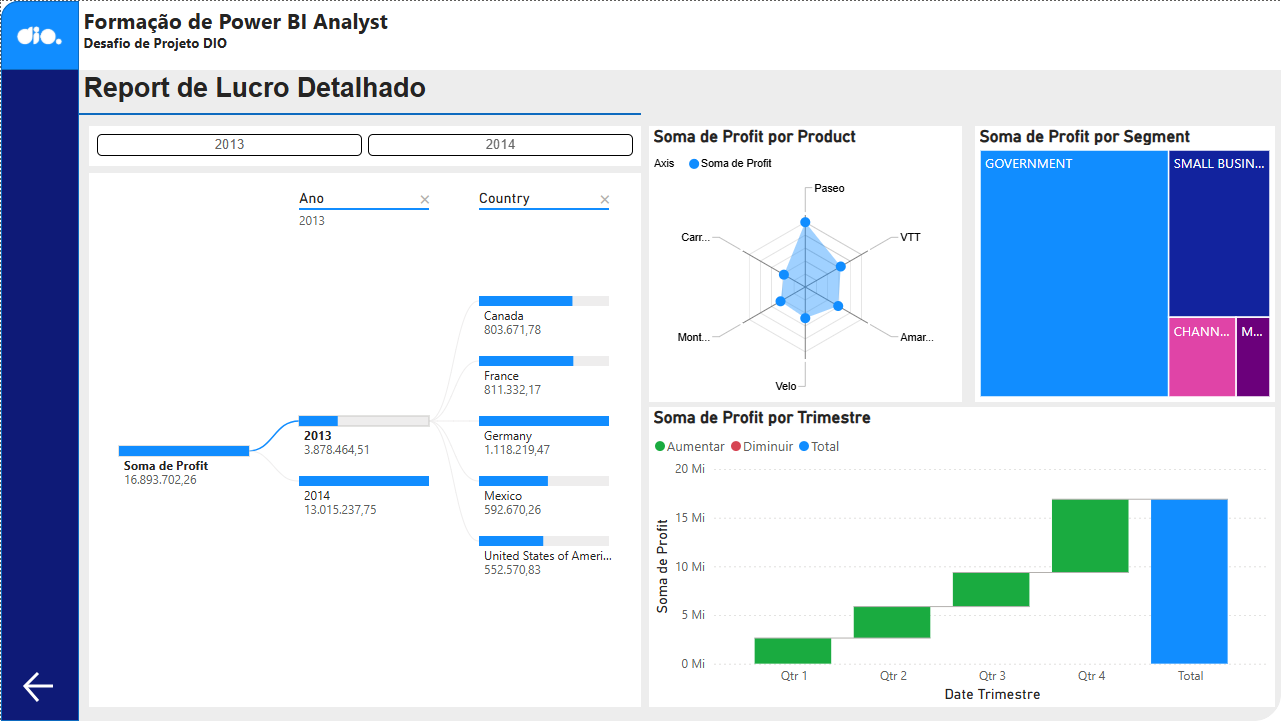

Layout of this report page (visuals, bound fields, positions):
{"tool":"powerbi","page":{"name":"Lucro Detalhado","canvas":[1280,720],"ordinal":1},"visuals":[{"type":"shape","box":[0,0,1280,720],"z":0},{"type":"shape","box":[78.2,101.1,561.8,24.4],"z":0,"group":"g1"},{"type":"shape","box":[0,0,78,720],"z":1},{"type":"shape","box":[0,0,78,69.2],"z":2},{"type":"textbox","box":[78.2,0,1201.8,69.1],"z":3},{"type":"image","title":"Logo_DIO","box":[0,0,78,69.2],"z":4},{"type":"group","id":"g1","title":"Title Report","box":[78.2,67.3,561.8,58.2],"z":5},{"type":"actionButton","box":[18.2,666.4,40.9,40],"z":6},{"type":"ChicletSlicer1448559807354","fields":{"Category":["financials.Date.Variation.Hierarquia de datas.Ano"]},"box":[88.2,125.5,551.8,40],"z":8},{"type":"decompositionTreeVisual","fields":{"ExplainBy":["financials.Date.Variation.Hierarquia de datas.Ano","financials.Country"],"Analyze":["Sum(financials.Profit)"]},"box":[88.2,171.8,551.8,534.5],"z":9},{"type":"waterfallChart","fields":{"Y":["Sum(financials.Profit)"],"Category":["financials.Date.Variation.Hierarquia de datas.Trimestre"]},"box":[648.2,406.4,625.5,300],"z":10},{"type":"treemap","fields":{"Group":["financials.Segment"],"Values":["Sum(financials.Profit)"]},"box":[973.6,125.5,300,275.5],"z":11},{"type":"RadarChart1446119667547","fields":{"Category":["financials.Product"],"Y":["Sum(financials.Profit)"]},"box":[648.2,125.5,312.7,275.5],"z":12},{"type":"textbox","box":[78.2,67.3,560.6,47.9],"z":1000,"group":"g1"}]}

Visuals, with their boxes on the page's 1280x720 design canvas (x1, y1, x2, y2). These are canvas units, not pixel positions in the 1281x721 screenshot, which may show the page scaled, cropped or inside an application window:
shape: 0, 0, 1280, 720
shape: 78, 101, 640, 126
shape: 0, 0, 78, 720
shape: 0, 0, 78, 69
textbox: 78, 0, 1280, 69
"Logo_DIO" image: 0, 0, 78, 69
"Title Report" group: 78, 67, 640, 126
actionButton: 18, 666, 59, 706
ChicletSlicer1448559807354 - financials.Date.Variation.Hierarquia de datas.Ano: 88, 126, 640, 166
decompositionTreeVisual - financials.Date.Variation.Hierarquia de datas.Ano x financials.Country: 88, 172, 640, 706
waterfallChart - Sum(financials.Profit) x financials.Date.Variation.Hierarquia de datas.Trimestre: 648, 406, 1274, 706
treemap - financials.Segment x Sum(financials.Profit): 974, 126, 1274, 401
RadarChart1446119667547 - financials.Product x Sum(financials.Profit): 648, 126, 961, 401
textbox: 78, 67, 639, 115
